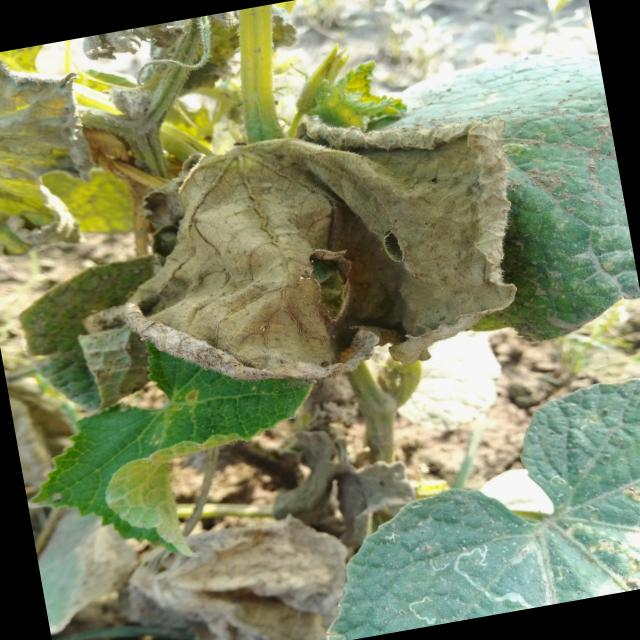cucumber_bacterial: (108, 90, 542, 414), (1, 302, 339, 568), (65, 464, 340, 640), (78, 0, 325, 146), (0, 39, 105, 272)
